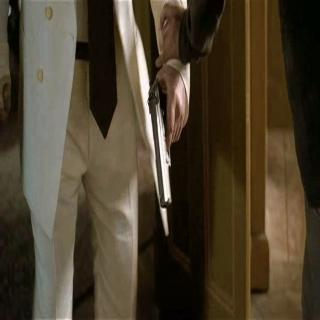gun: (144, 55, 183, 208)
